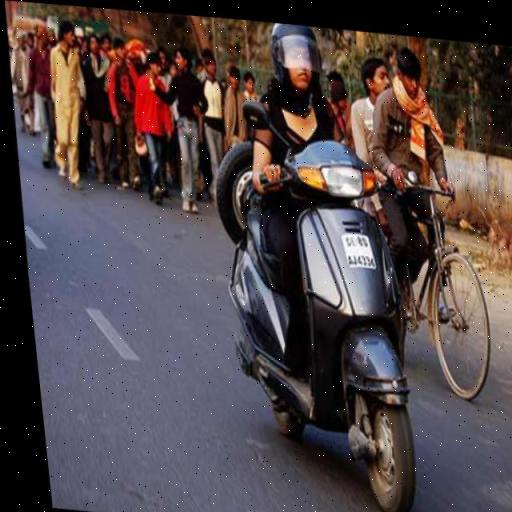Helmet: (250, 16, 331, 80)
Motor: (206, 93, 440, 512)
